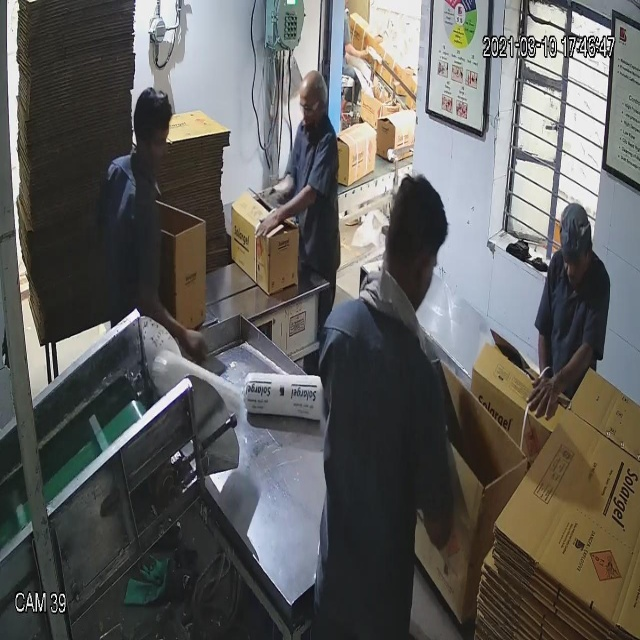Sin_guantes: (131, 276, 216, 383), (526, 336, 602, 433), (244, 181, 327, 252)
